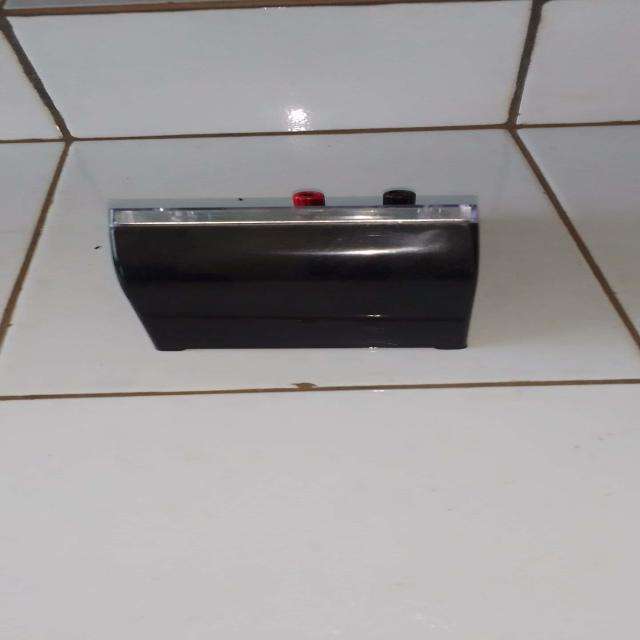Ammeter Analog: (69, 183, 512, 353)
